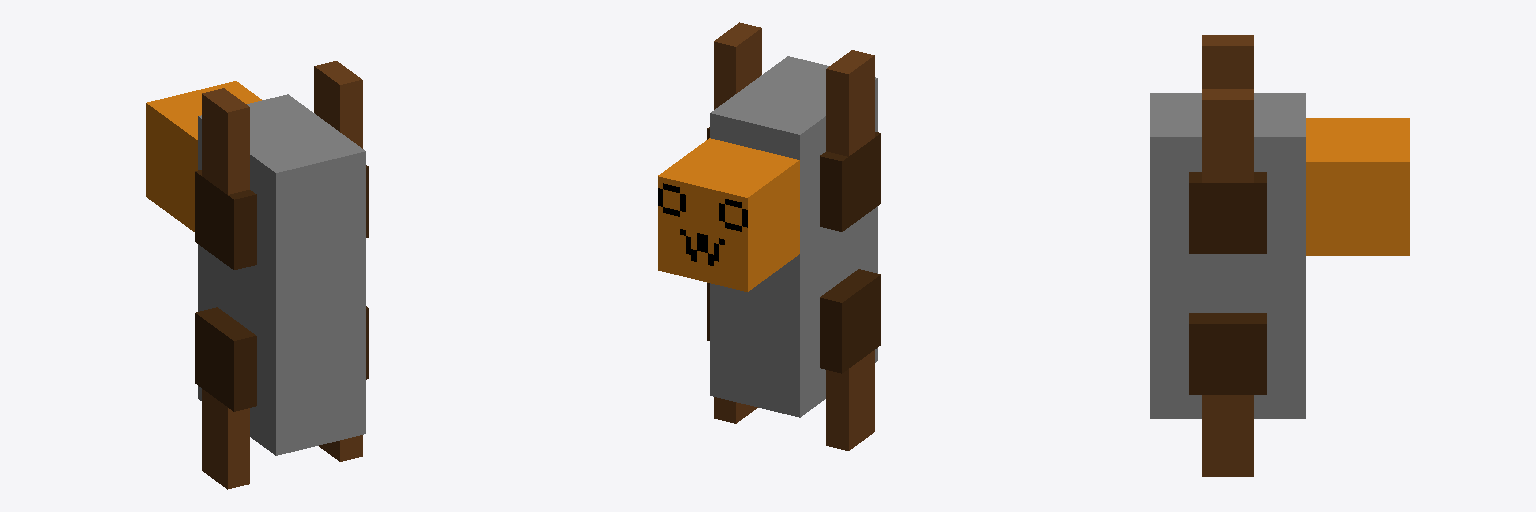
3 views of the same model, side by side, from view 1: azimuth 30°, elevation 25°; view 2: azimuth 150°, elevation 25°; view 3: azimuth 270°, elevation 25° (orthographic).
Parts seen in each view (by area): view 1: Yeeter__-18_2_8_to_-16_12_10; view 2: Yeeter__-18_2_8_to_-16_12_10; view 3: Yeeter__-18_2_8_to_-16_12_10.
Boxes of the visible parts, box(x1,y1,x2,y2) form: Yeeter__-18_2_8_to_-16_12_10: box(146, 61, 368, 489); Yeeter__-18_2_8_to_-16_12_10: box(658, 22, 880, 450); Yeeter__-18_2_8_to_-16_12_10: box(1150, 35, 1409, 476).
Size of the model in its own units: 0.75 by 2 by 1.25.
2 materials, 1 textured.